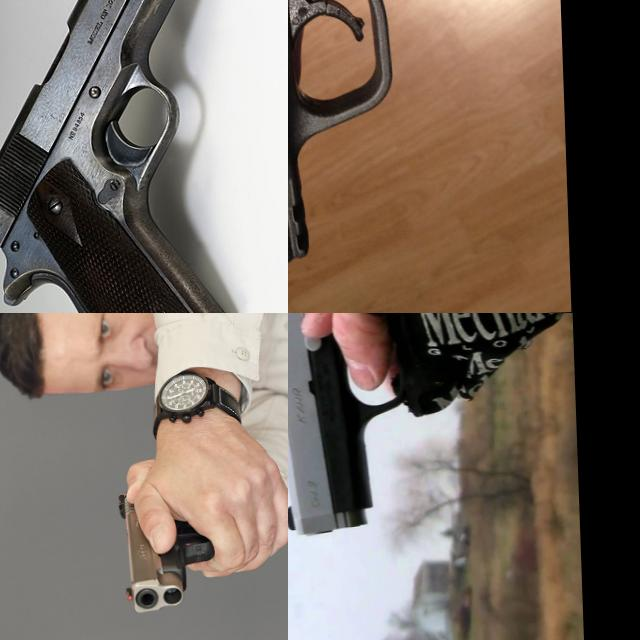handgun: (288, 0, 565, 302), (0, 0, 258, 313), (288, 313, 417, 540), (114, 482, 218, 614)
